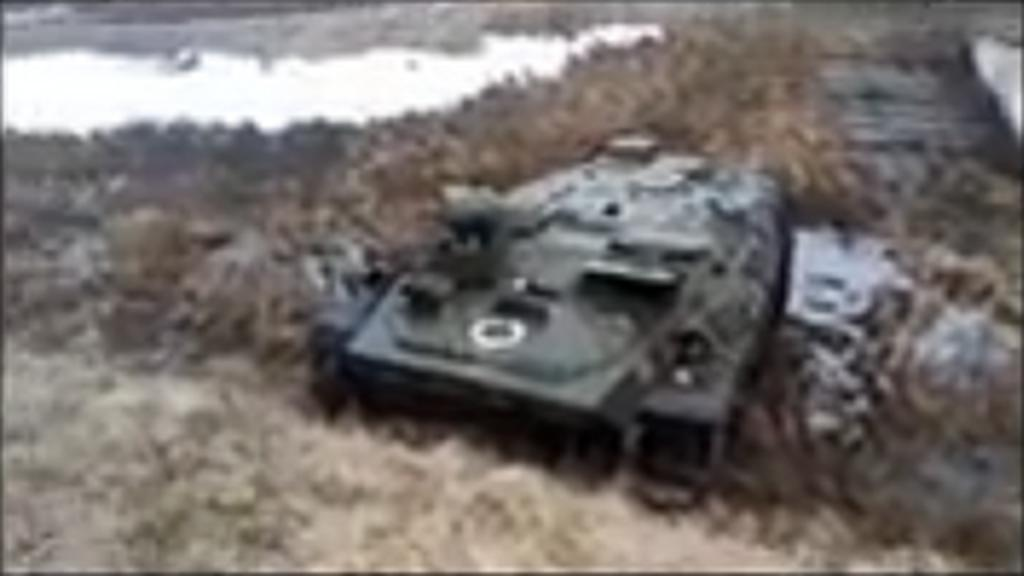APC-IFV: (300, 134, 798, 492)
